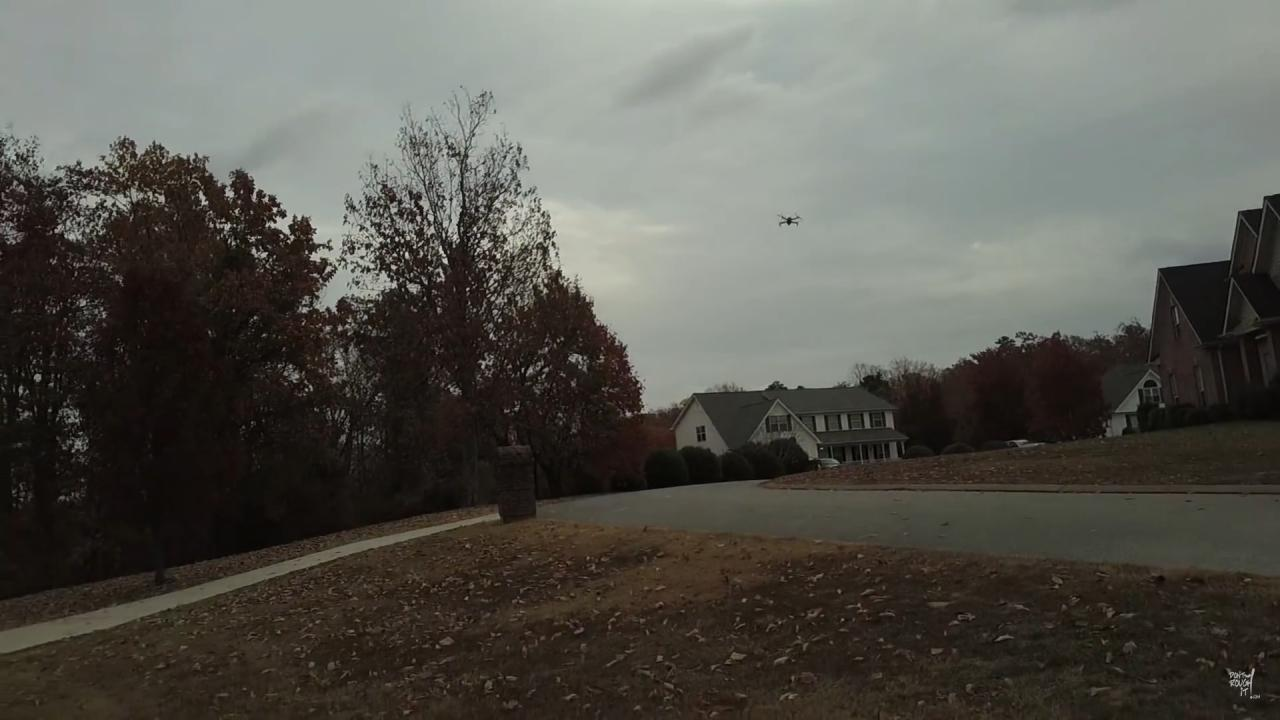Drone: (771, 207, 805, 234)
